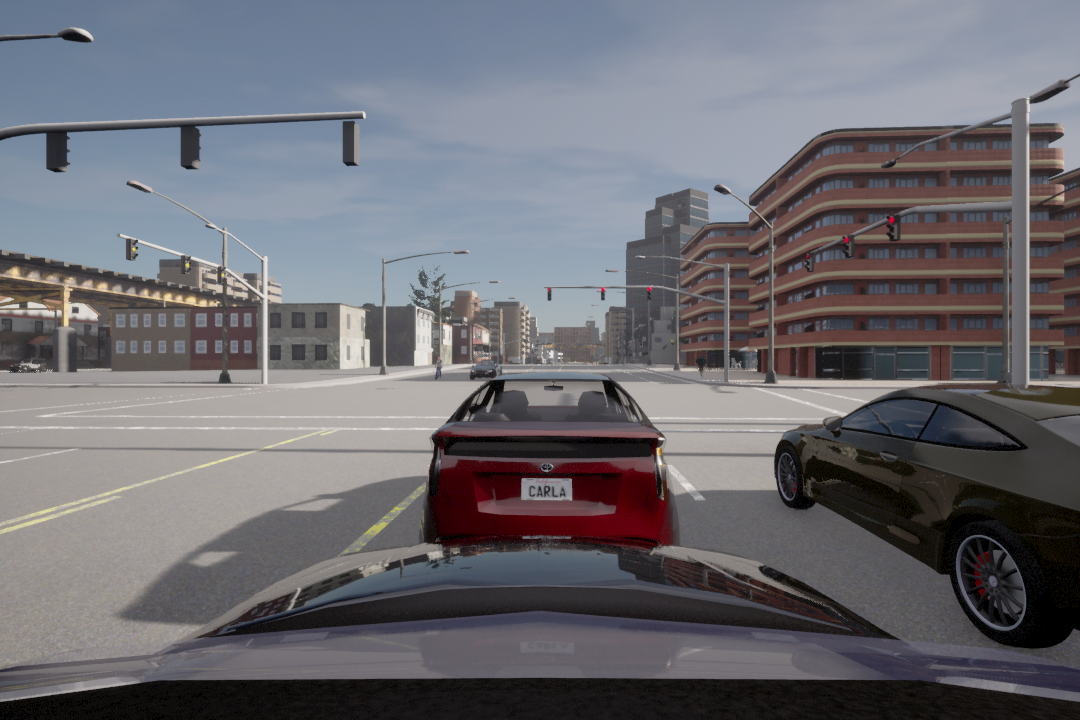TrafficLight: (885, 216, 904, 244), (127, 236, 141, 264), (802, 249, 815, 278), (842, 234, 857, 258), (214, 264, 227, 286), (179, 253, 191, 276), (598, 286, 607, 303), (646, 285, 654, 303), (544, 287, 553, 301)
